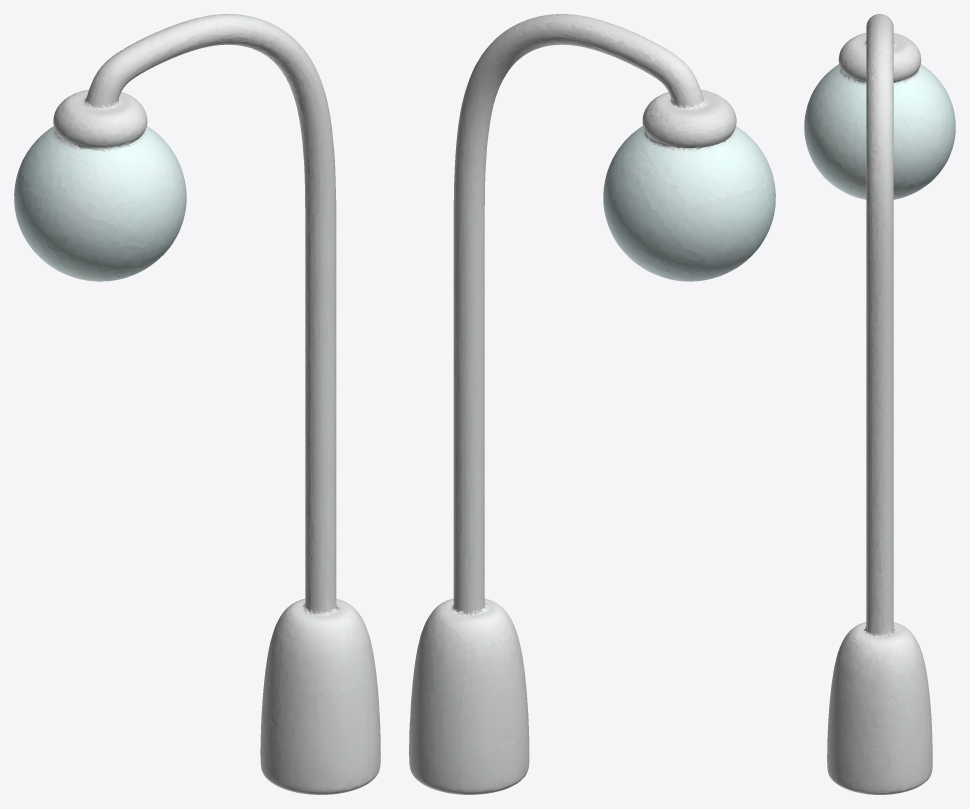
Rendered from lamp.glb.
3 renders of one model, left to right at view 1: azimuth 30°, elevation 25°; view 2: azimuth 150°, elevation 25°; view 3: azimuth 270°, elevation 25°, orthographic. The views are drawn at different scales.
Size of the model in its own units: 0.8774 by 1.9 by 0.3769.
Materials: 1 (1 with a texture image).
